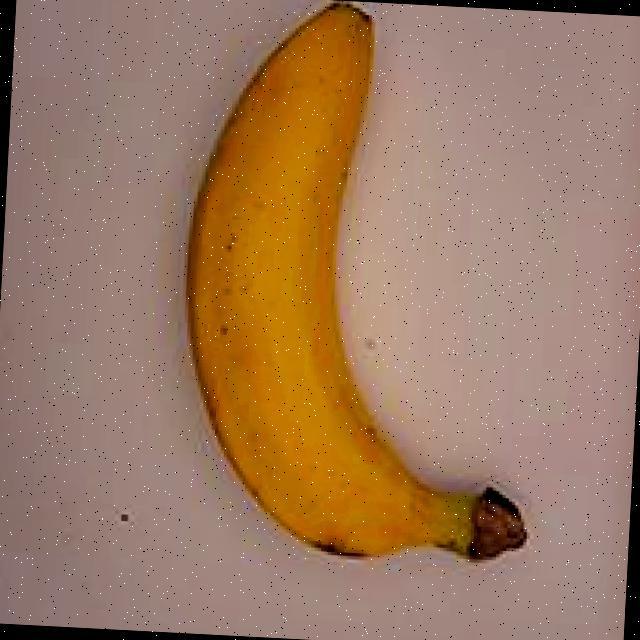Ripe: (137, 0, 587, 609)
